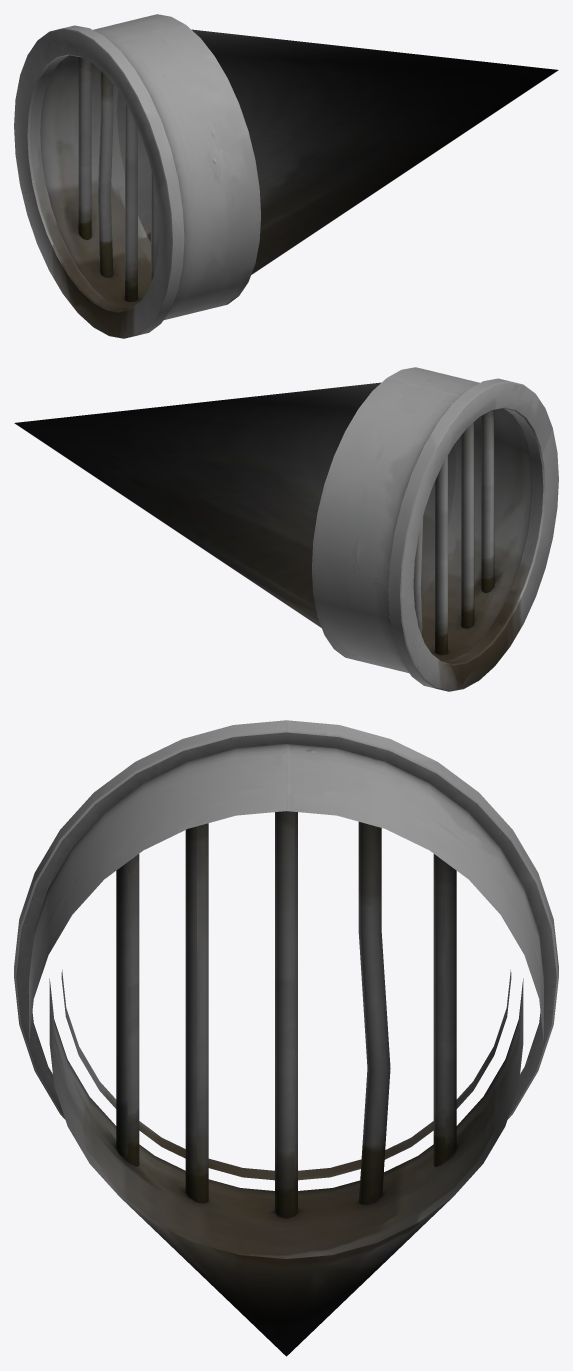
3 renders of one model, top to bottom at view 1: azimuth 30°, elevation 25°; view 2: azimuth 150°, elevation 25°; view 3: azimuth 270°, elevation 25°, orthographic. The views are drawn at different scales.
Visible parts, largest first — view 1: body0_model0_lod0_mesh0; view 2: body0_model0_lod0_mesh0; view 3: body0_model0_lod0_mesh0.
Part boxes in pixels (<box>): body0_model0_lod0_mesh0: <box>14,14,558,338</box>; body0_model0_lod0_mesh0: <box>14,367,558,691</box>; body0_model0_lod0_mesh0: <box>14,720,558,1356</box>.
Size of the model in its own units: 320 by 189 by 189.
Materials: 1 (1 with a texture image).
